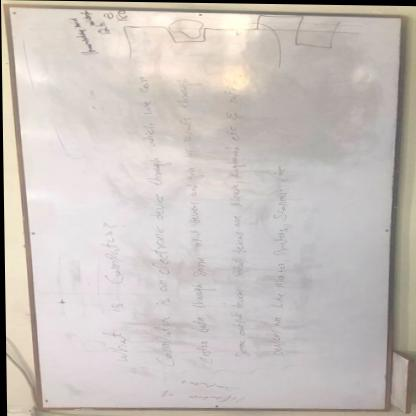Handwritten text: (136, 71, 176, 372), (177, 78, 213, 375), (218, 85, 255, 363), (256, 184, 296, 363), (94, 226, 134, 364)
Whiteboard: (0, 5, 403, 416)
